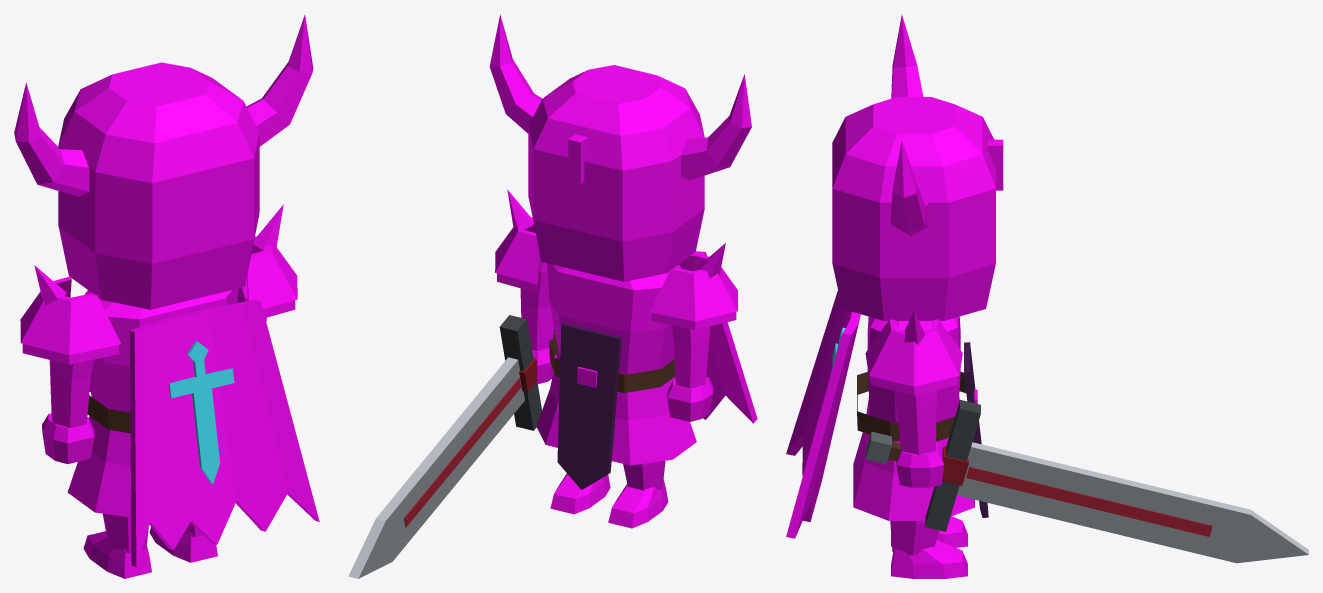
The model's file is CH_BloodKnight_NightKnight.fbx.
3 renders of one model, left to right at view 1: azimuth 30°, elevation 25°; view 2: azimuth 150°, elevation 25°; view 3: azimuth 270°, elevation 25°, orthographic. The views are drawn at different scales.
Visible parts, largest first — view 1: Body, Head, ArmL, LegL, LegR; view 2: Head, Body, ArmR, ArmL, LegL, LegR; view 3: Head, ArmR, Body, LegR, LegL.
Part boxes in pixels (<box>): Body: <box>20,204,319,566</box>; Head: <box>14,15,313,309</box>; ArmL: <box>42,359,94,463</box>; LegL: <box>83,513,151,578</box>; LegR: <box>149,522,217,562</box>; Head: <box>489,14,751,281</box>; Body: <box>495,189,757,489</box>; ArmR: <box>348,253,556,578</box>; ArmL: <box>667,325,713,421</box>; LegL: <box>608,461,668,528</box>; LegR: <box>550,473,610,514</box>; Head: <box>832,14,1003,320</box>; ArmR: <box>865,390,1308,563</box>; Body: <box>786,290,988,538</box>; LegR: <box>890,521,967,578</box>; LegL: <box>891,516,967,547</box>.
Size of the model in its own units: 1.1 by 1.81 by 1.82.
